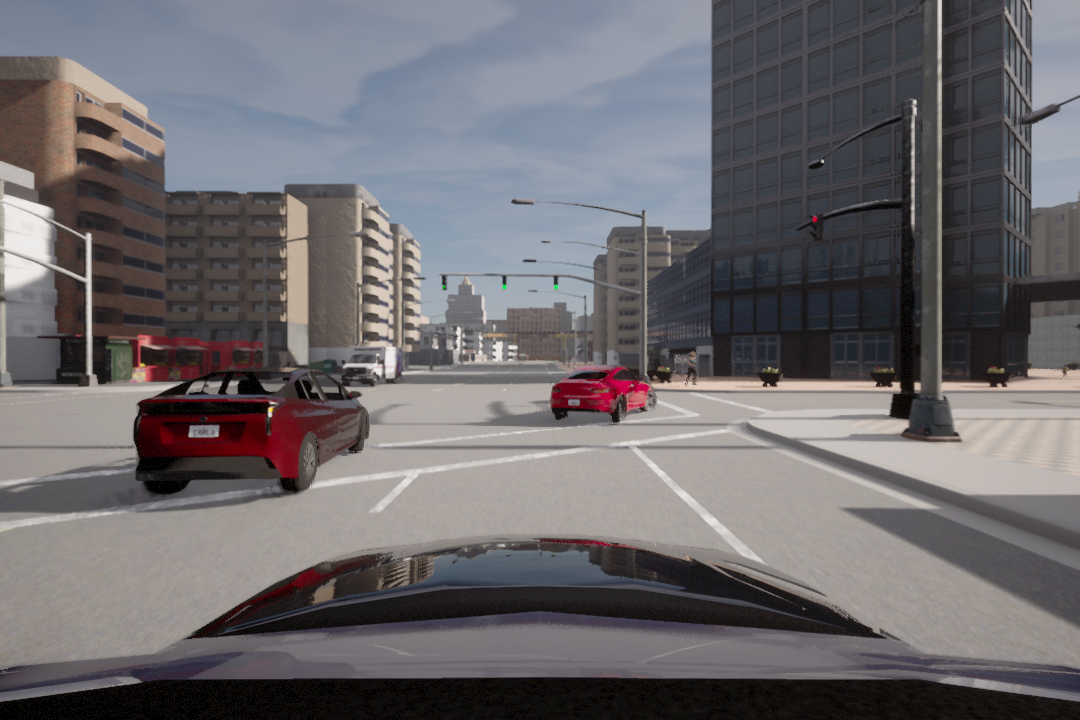TrafficLight: (811, 213, 824, 242), (439, 272, 449, 292), (550, 275, 561, 292), (501, 272, 507, 291)
